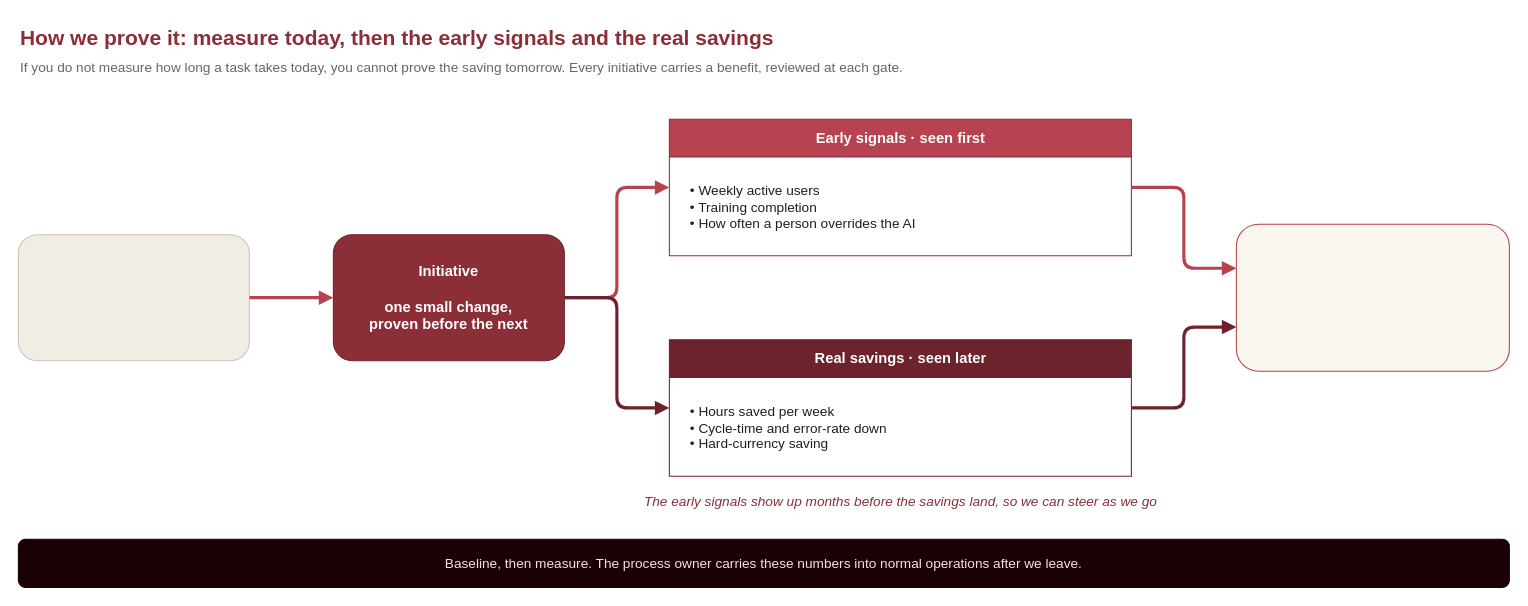
This 1528x606 diagram has some shape labels left out. Here are the shapes that lost their labels. From the top down, the centre of each, then its label:
point 133,297: Baseline measure the work as it runs today
point 1372,297: Benefit realized tracked at every gate, then owned by the team
